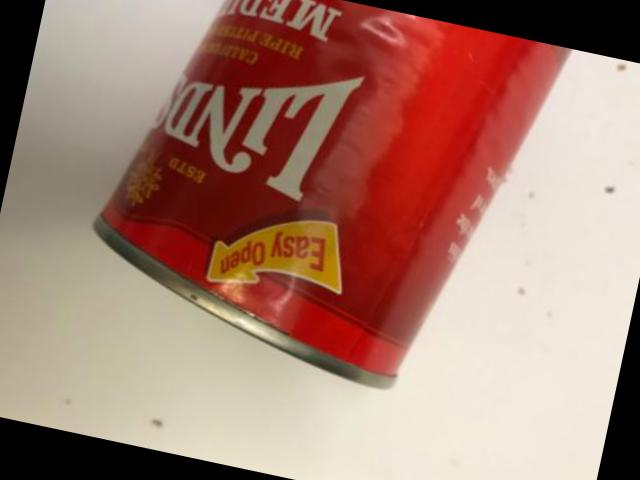metal: (96, 0, 572, 389)
